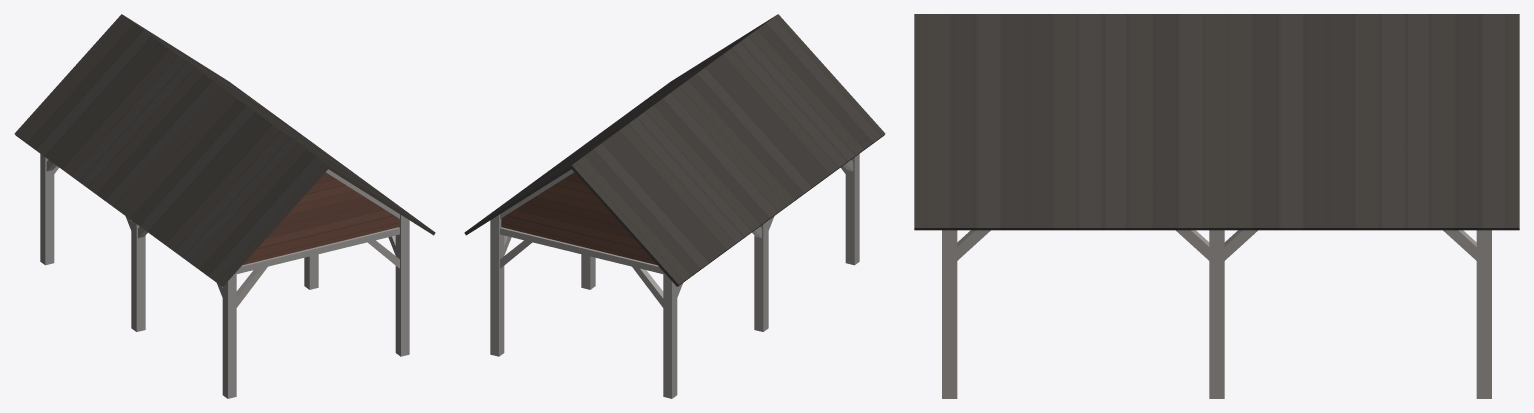
Rendered from SM_Bldg_Farm_Shed_03.fbx.
3 renders of one model, left to right at view 1: azimuth 30°, elevation 25°; view 2: azimuth 150°, elevation 25°; view 3: azimuth 270°, elevation 25°, orthographic. The views are drawn at different scales.
Parts seen in each view (by area): view 1: SM_Bldg_Farm_Shed_03; view 2: SM_Bldg_Farm_Shed_03; view 3: SM_Bldg_Farm_Shed_03.
Boxes of the visible parts, x1=… form: SM_Bldg_Farm_Shed_03: x1=14, y1=14, x2=435, y2=398; SM_Bldg_Farm_Shed_03: x1=464, y1=14, x2=885, y2=398; SM_Bldg_Farm_Shed_03: x1=914, y1=14, x2=1519, y2=398.
Bounding box in the file's own units: 720 × 700 × 1200.
